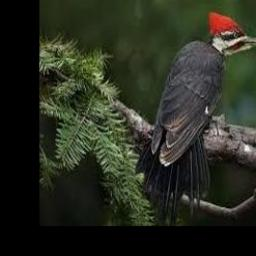Woodpecker: (137, 9, 256, 225)
